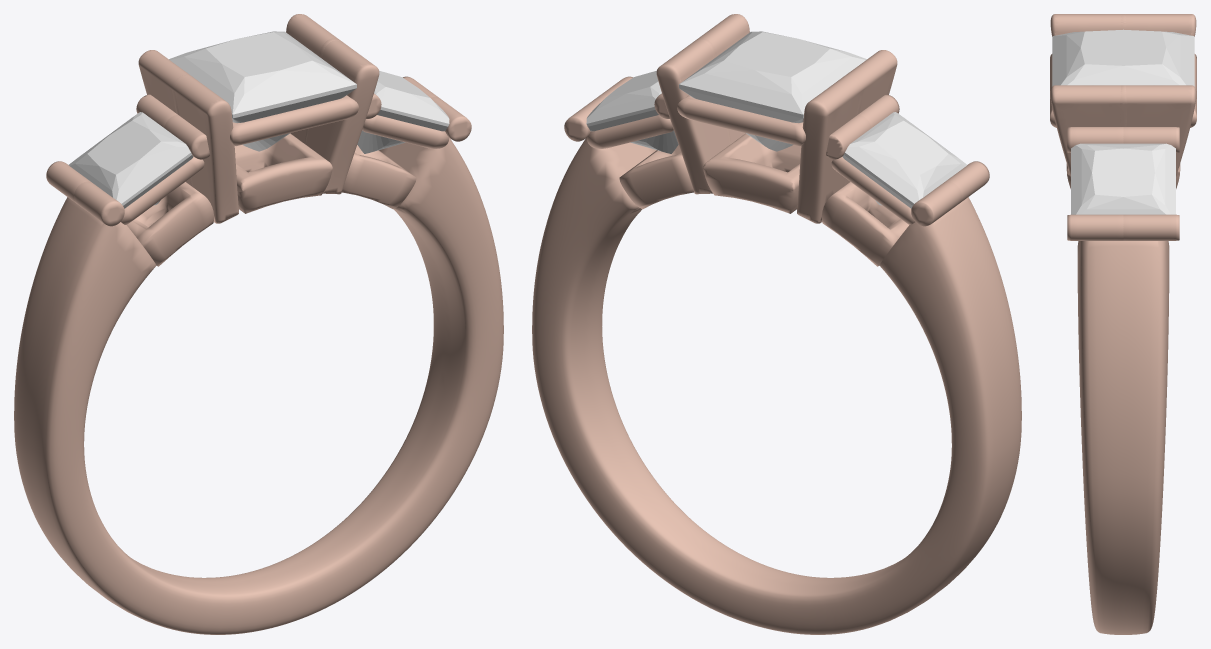
The model's file is diamond-princess-rosegold-halfmoonbezel-straighttaperedband-3stone.glb.
The picture shows the model from 3 angles, left to right: view 1: azimuth 30°, elevation 25°; view 2: azimuth 150°, elevation 25°; view 3: azimuth 270°, elevation 25°; orthographic projection.
Parts seen in each view (by area): view 1: metal, stone, side.002, side; view 2: metal, stone, side.002, side; view 3: metal, stone, side.
Boxes of the visible parts, bbox=[...] form: metal: bbox=[14, 14, 503, 634]; stone: bbox=[169, 31, 356, 151]; side.002: bbox=[69, 112, 193, 208]; side: bbox=[357, 71, 449, 153]; metal: bbox=[532, 14, 1021, 634]; stone: bbox=[679, 31, 866, 151]; side.002: bbox=[842, 112, 966, 208]; side: bbox=[586, 71, 678, 153]; metal: bbox=[1050, 14, 1196, 634]; stone: bbox=[1052, 29, 1194, 86]; side: bbox=[1071, 143, 1175, 214].
Size of the model in its own units: 20.1 by 23.65 by 5.6.
